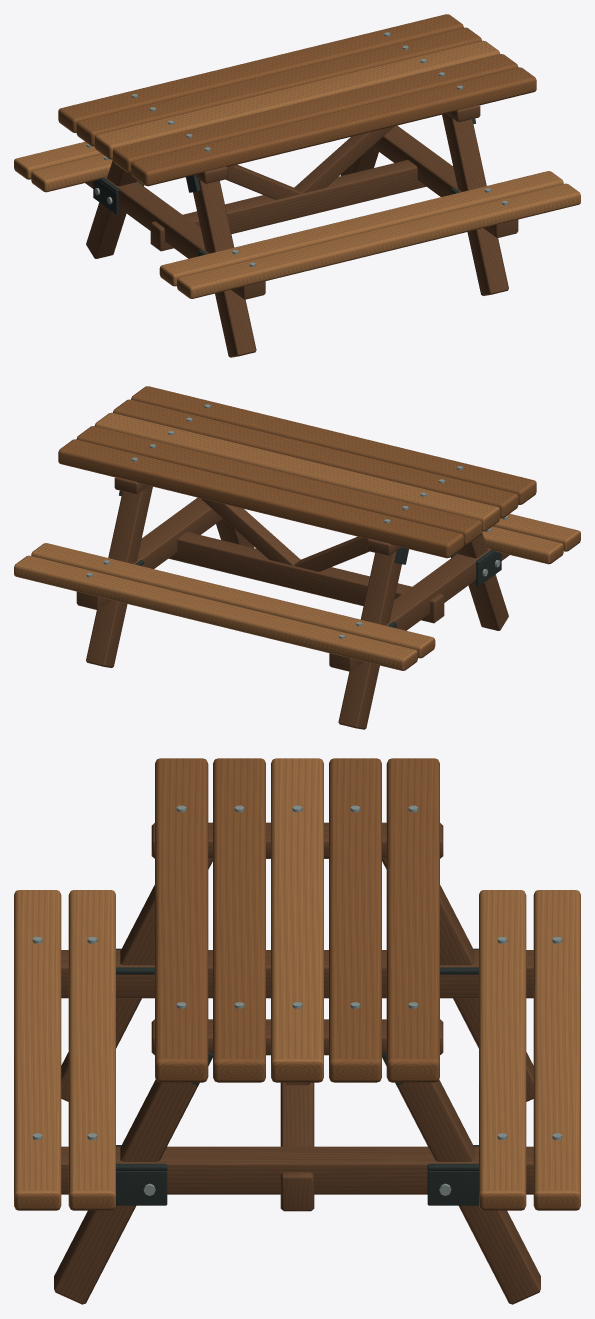
Rendered from picnic-table-crafted.glb.
3 renders of one model, top to bottom at view 1: azimuth 30°, elevation 25°; view 2: azimuth 150°, elevation 25°; view 3: azimuth 270°, elevation 25°, orthographic. The views are drawn at different scales.
Visible parts, largest first — view 1: picnic-table crafted; view 2: picnic-table crafted; view 3: picnic-table crafted.
Boxes of the visible parts, box(x1,y1,x2,y2) form: picnic-table crafted: box(14, 14, 580, 357); picnic-table crafted: box(14, 386, 580, 729); picnic-table crafted: box(14, 758, 580, 1304).
Bounding box in the file's own units: 1.8 × 0.81 × 1.41.
1 material, 1 textured.
